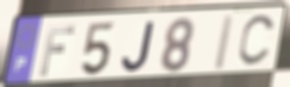5: (80, 21, 116, 77)
8: (159, 16, 196, 74)
C: (236, 13, 278, 69)
F: (37, 24, 78, 78)
I: (211, 13, 237, 72)
J: (120, 20, 157, 74)
